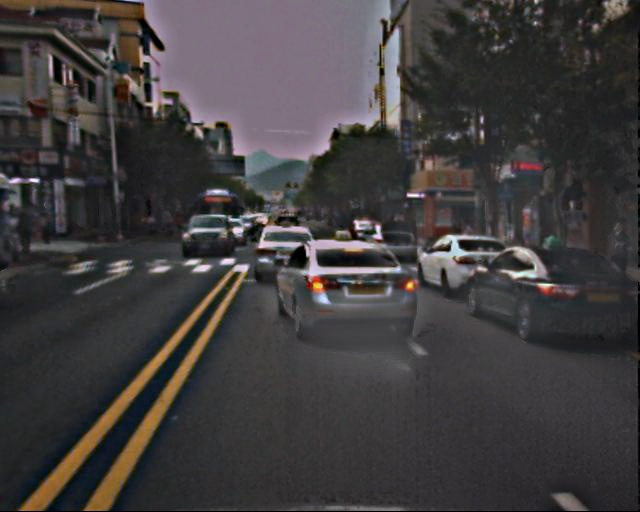person: (600, 217, 636, 295)
